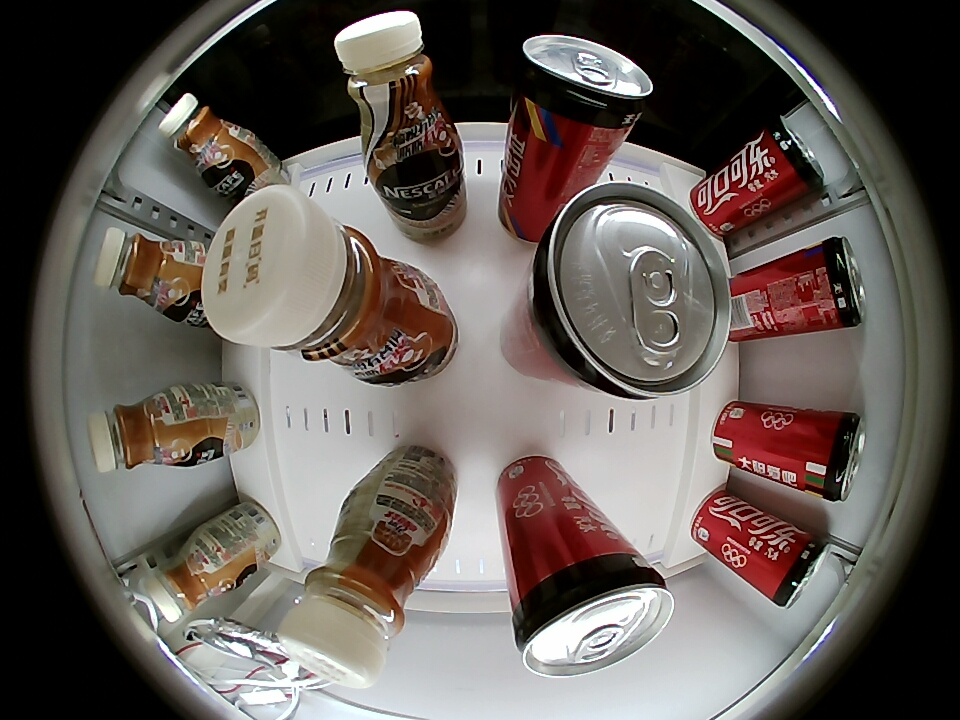kafei: (201, 186, 429, 380), (280, 527, 431, 687), (334, 10, 462, 162), (94, 227, 202, 323), (88, 386, 197, 472), (159, 93, 244, 182), (144, 540, 228, 621)
lingdukele: (528, 181, 732, 402), (514, 554, 674, 677), (517, 35, 653, 134), (798, 410, 865, 504), (802, 236, 865, 331), (757, 115, 824, 201), (760, 527, 829, 609)
